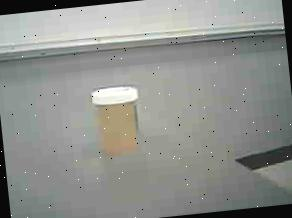Bottle B: (85, 74, 149, 166)
